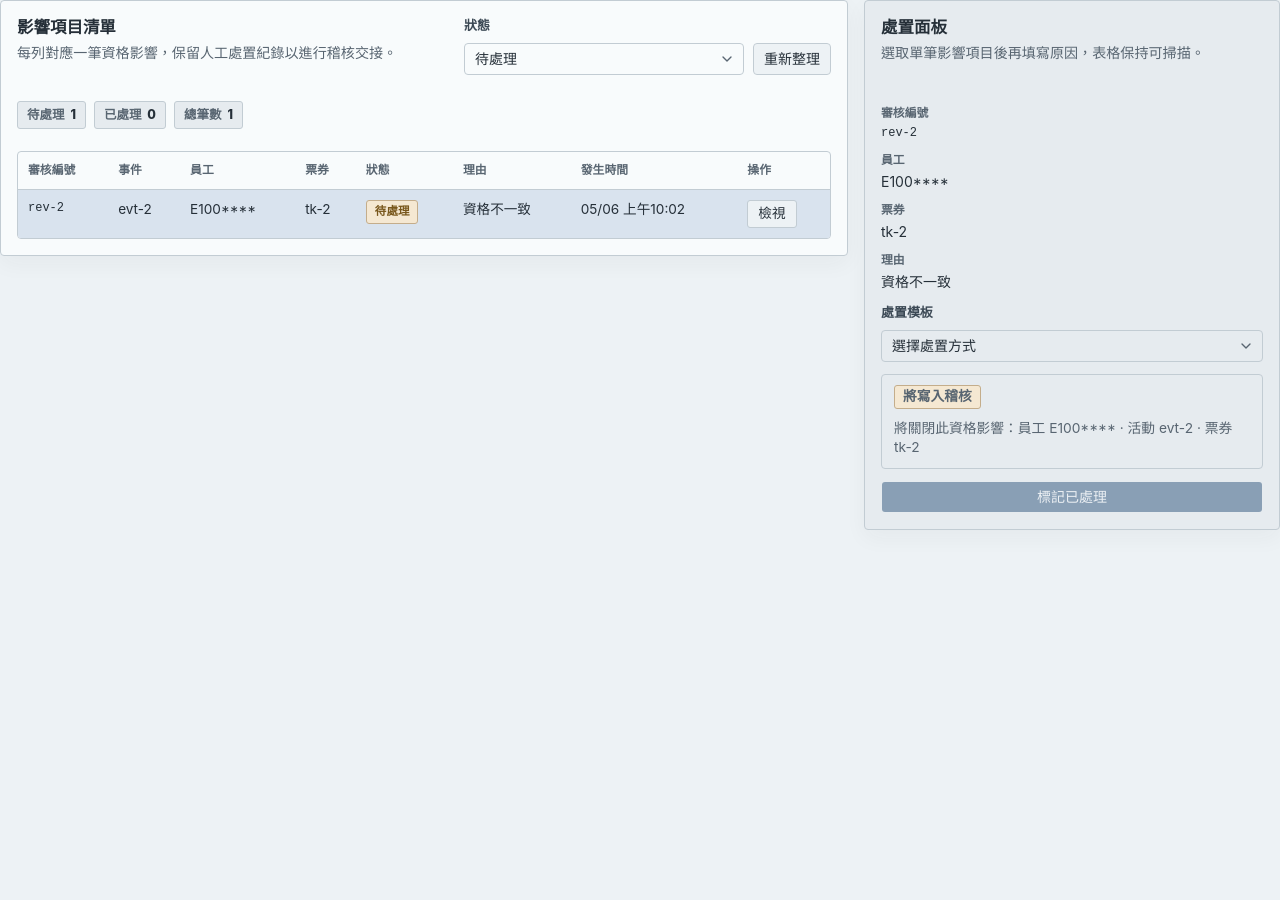
Scenario: HrSyncSettingsPage › resolves an impact review with operator reason
Click the dropdown named "處置模板" at (934,345), box [881, 330, 1263, 362]
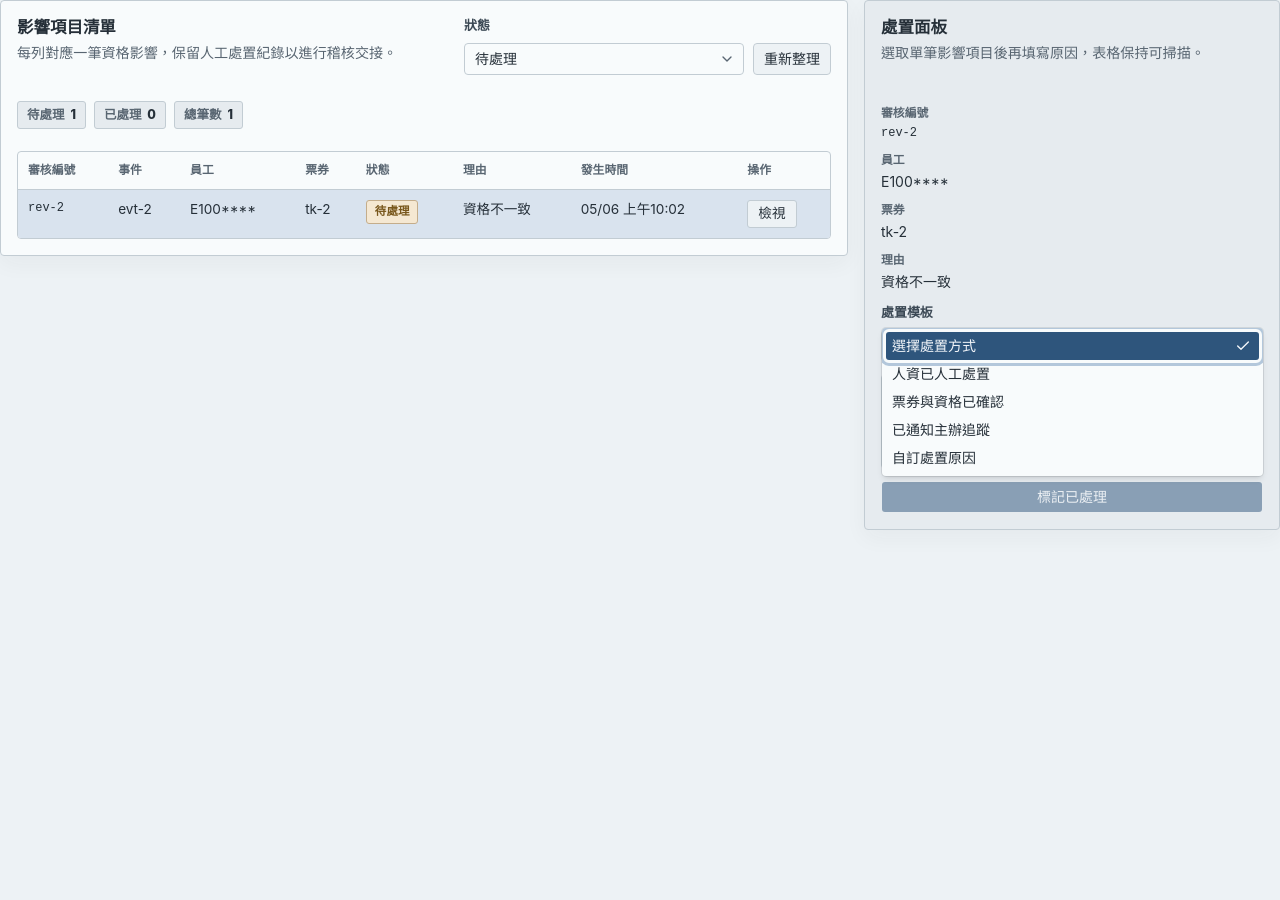
Click the option "自訂處置原因" at (934,457), box [892, 448, 976, 466]
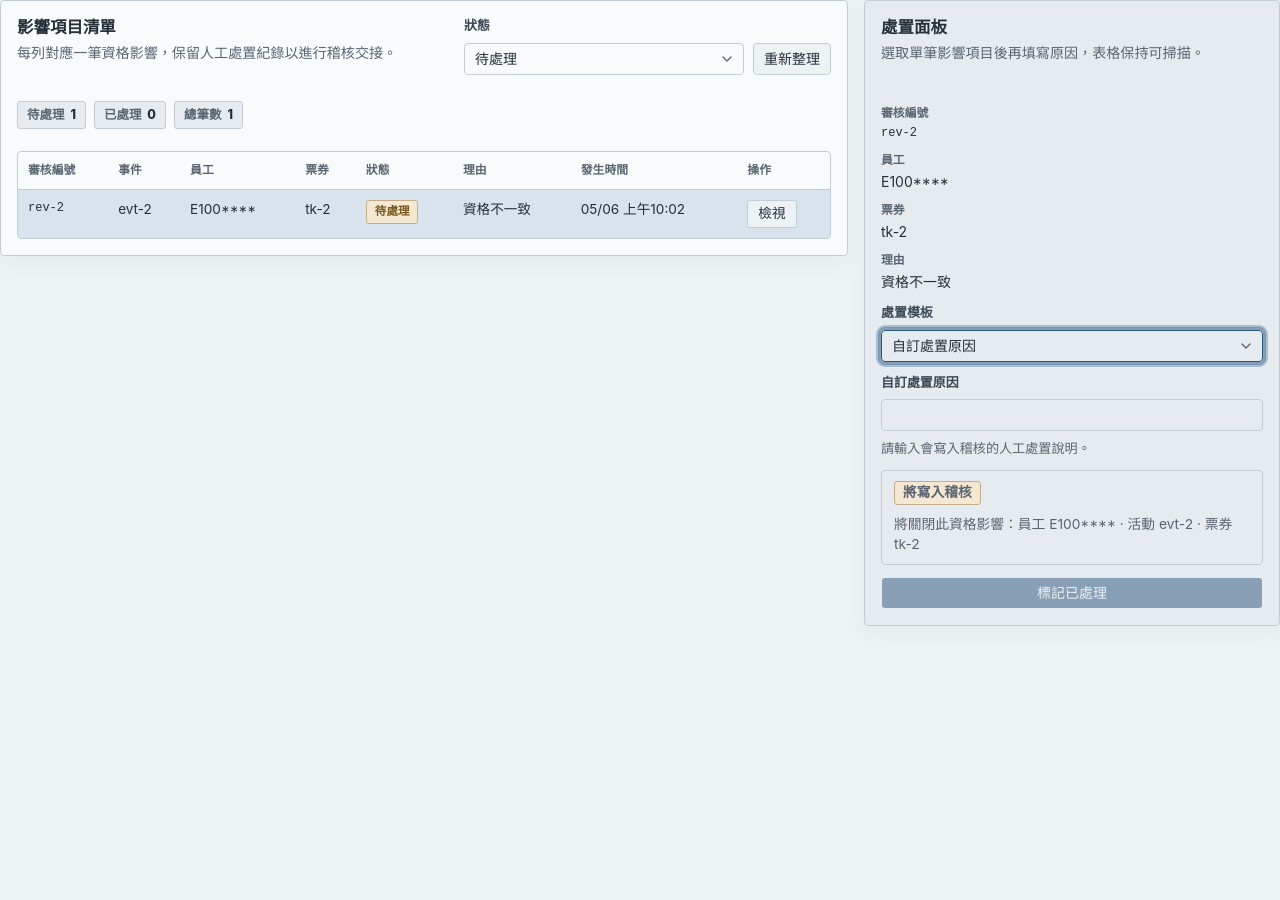
Type "人資已確認" into the field labelled "自訂處置原因" at (1072,415), box [881, 399, 1263, 431]
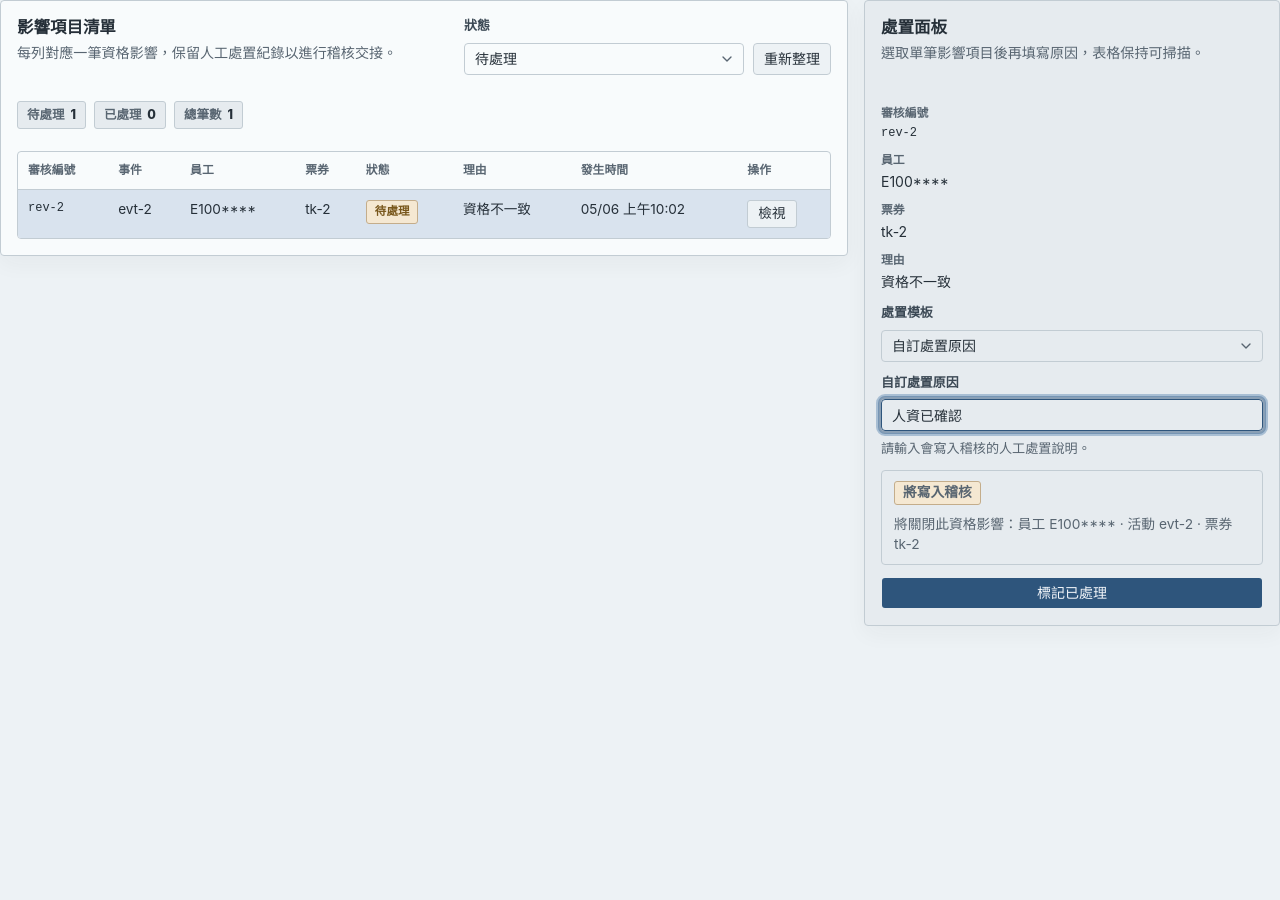
Click the button "標記已處理" at (1072,593), box [881, 577, 1263, 609]
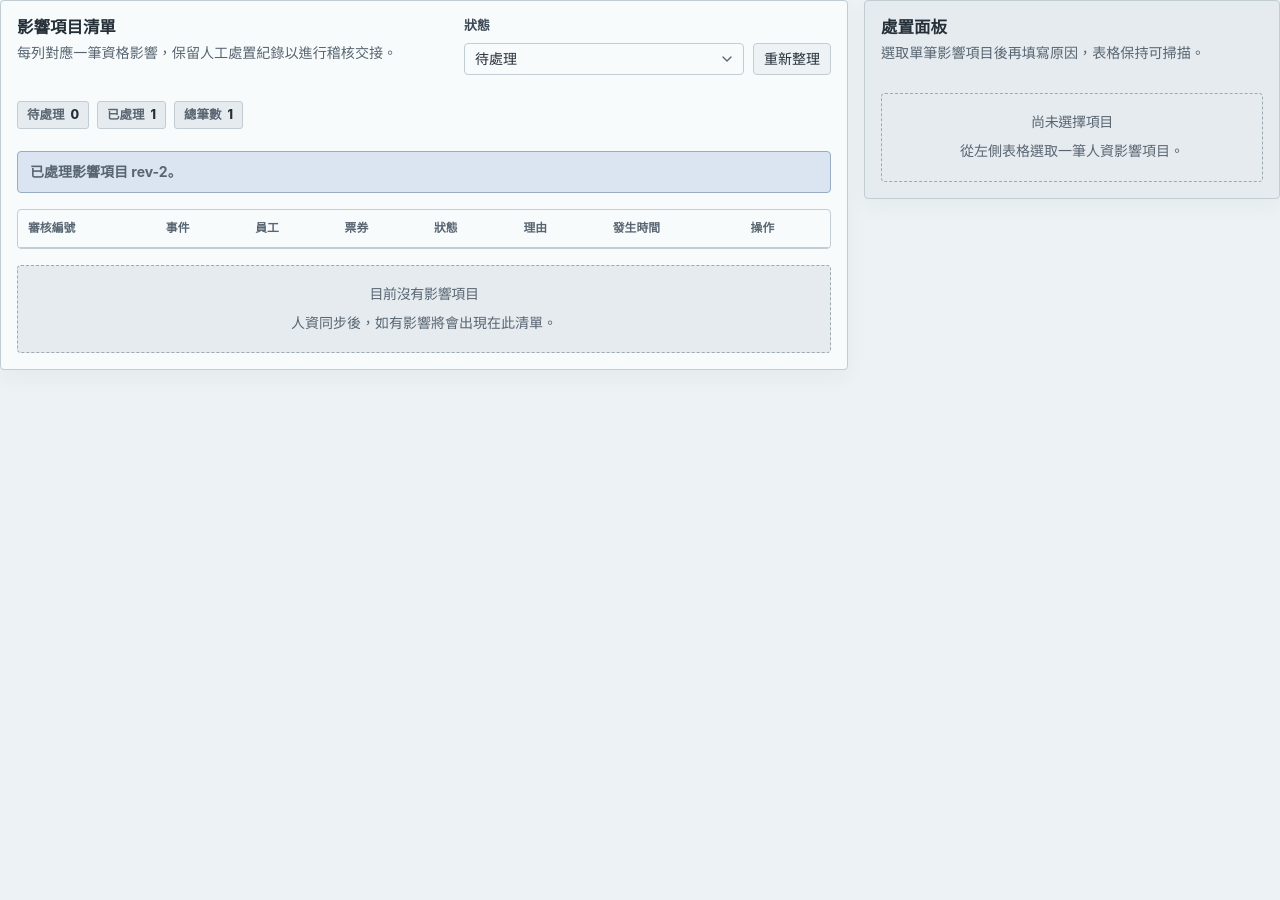
Expected: the text "已處理影響項目 rev-2。" is shown, [30, 163, 182, 180]
Expected: the text "目前沒有影響項目" is shown, [369, 284, 479, 304]
